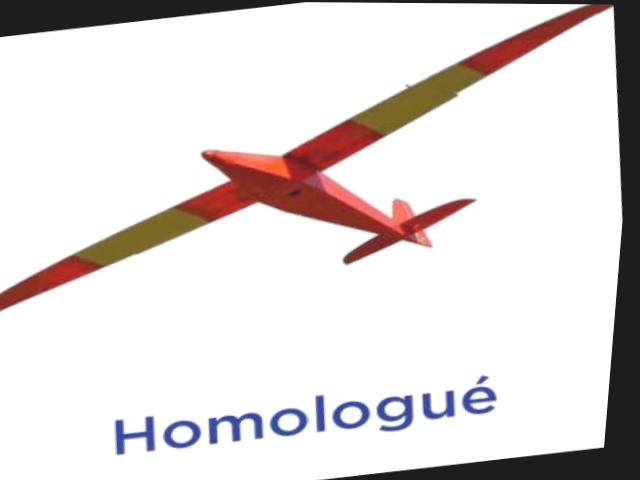uav: (0, 0, 640, 329)
